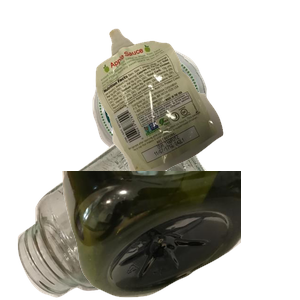glass: (15, 126, 229, 300)
metal: (90, 44, 289, 195)
plastic: (60, 171, 300, 300)
trash: (93, 26, 300, 200)
